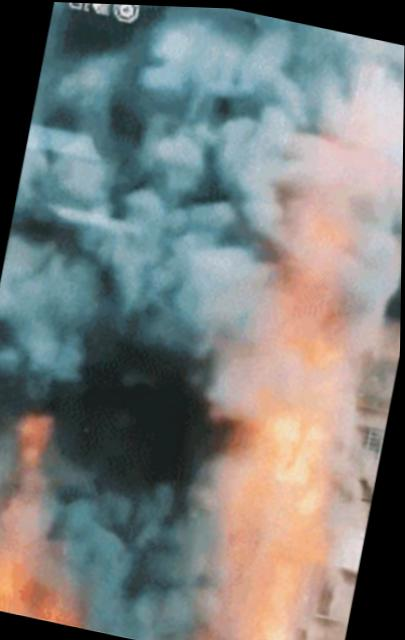fire: (186, 128, 403, 639), (0, 398, 123, 626)
